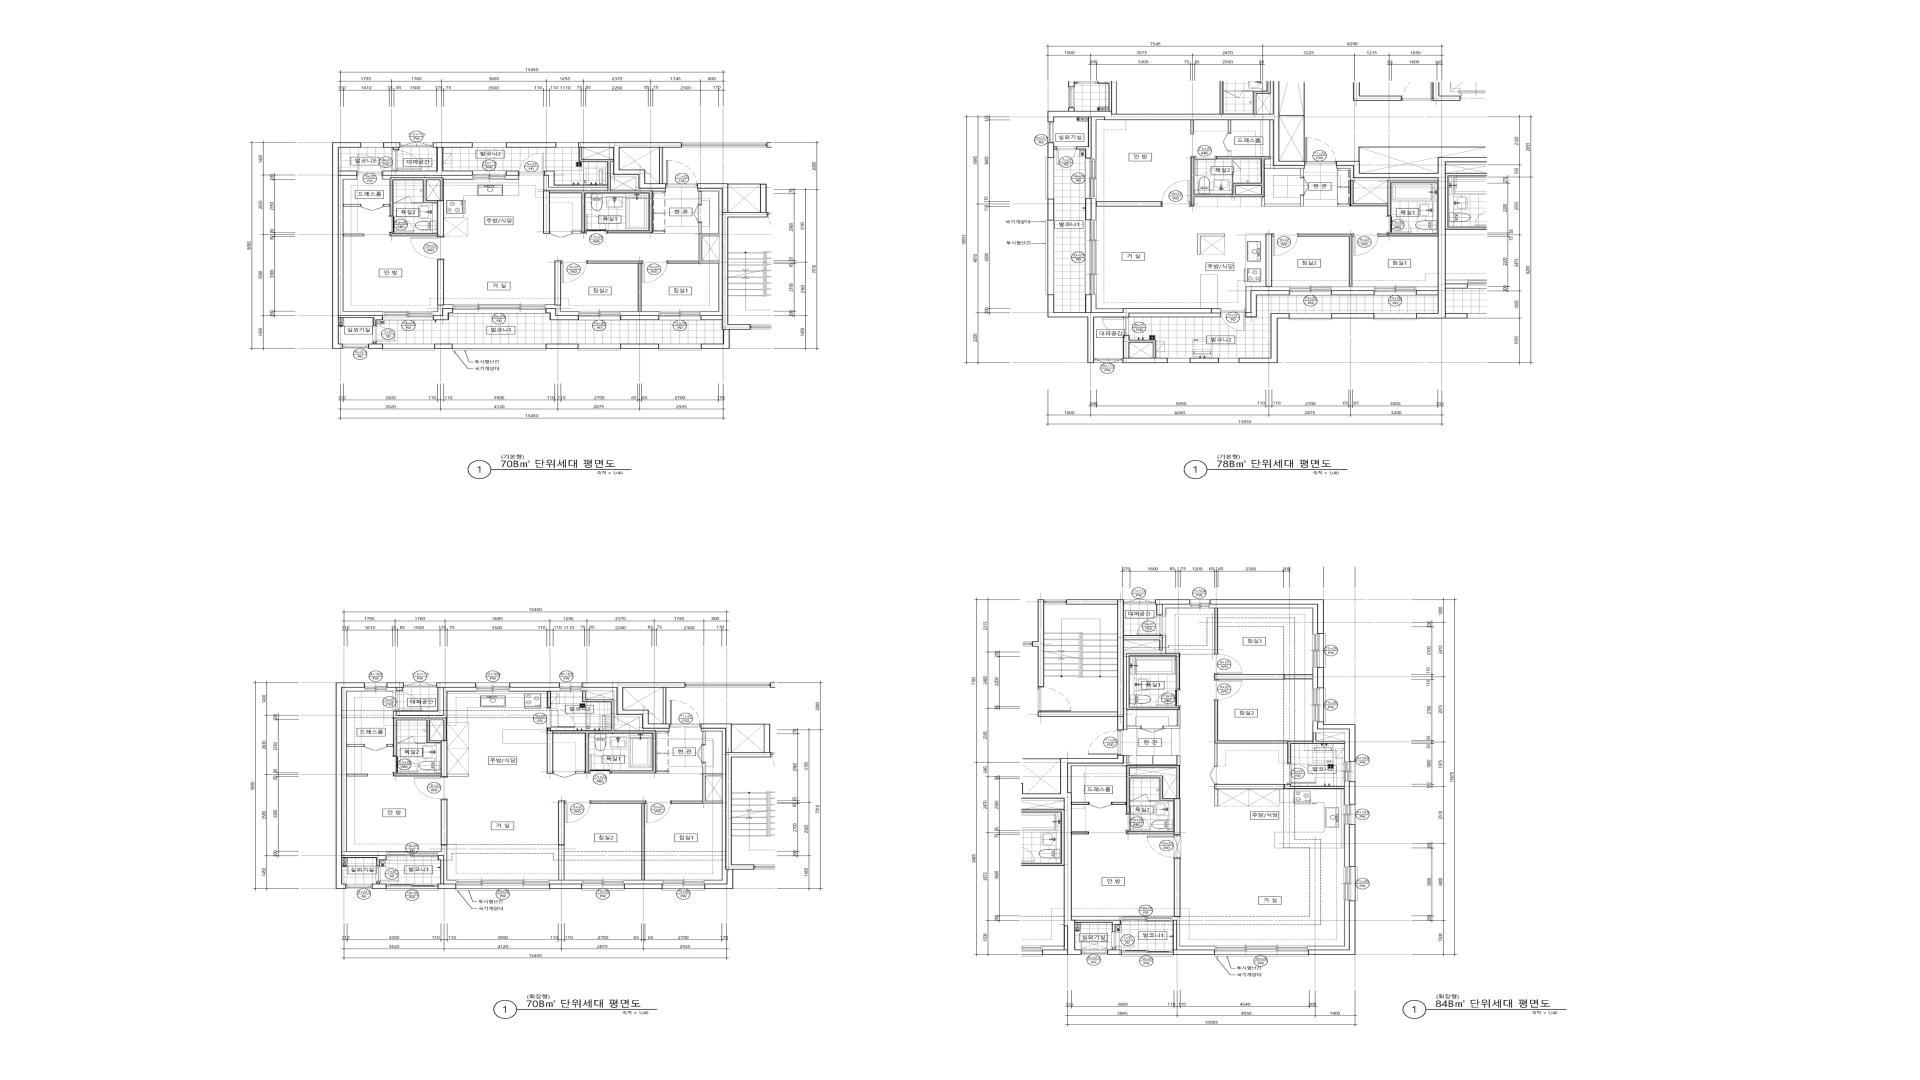door: (666, 160, 698, 187), (669, 700, 700, 727), (1088, 731, 1121, 756), (1038, 687, 1071, 712), (410, 236, 444, 260), (1305, 137, 1336, 164), (1147, 835, 1180, 858), (1162, 181, 1191, 207), (1352, 233, 1379, 256), (393, 150, 422, 171), (1137, 615, 1166, 636), (518, 153, 545, 175), (1273, 233, 1299, 256), (1220, 309, 1246, 331), (645, 800, 671, 823), (564, 800, 591, 823), (1288, 764, 1316, 785), (1215, 679, 1242, 700), (642, 261, 667, 284), (560, 261, 587, 282), (1215, 654, 1242, 674), (393, 691, 421, 711), (547, 708, 575, 728), (357, 154, 382, 175), (1126, 814, 1151, 832), (1102, 318, 1129, 335), (585, 214, 608, 233), (588, 754, 611, 773), (390, 216, 414, 233), (1387, 216, 1411, 233), (1156, 690, 1180, 707), (393, 756, 417, 773), (1195, 157, 1216, 175), (373, 326, 396, 342), (1112, 932, 1134, 948), (377, 866, 398, 882), (553, 771, 576, 778), (360, 204, 384, 211), (1089, 802, 1112, 808), (1141, 727, 1163, 733), (550, 231, 572, 237), (1224, 133, 1232, 152), (1209, 766, 1217, 785), (1130, 794, 1149, 802), (397, 736, 415, 744), (694, 204, 702, 223), (1300, 178, 1308, 195), (698, 745, 705, 762), (393, 196, 411, 203), (364, 745, 386, 750), (1232, 160, 1241, 171)
wall: (1047, 82, 1305, 166), (1336, 157, 1445, 319), (1038, 600, 1163, 731), (1060, 756, 1124, 955), (543, 142, 682, 233), (1047, 294, 1220, 363), (700, 724, 771, 889), (698, 183, 767, 349), (335, 683, 386, 889), (332, 142, 382, 349), (547, 691, 657, 774), (1215, 700, 1345, 764), (342, 687, 386, 856), (339, 175, 382, 315), (582, 683, 686, 729), (1112, 766, 1180, 835), (591, 800, 645, 880), (1124, 636, 1166, 731), (1209, 600, 1324, 634), (1191, 157, 1271, 206), (702, 729, 727, 884), (582, 687, 670, 731), (1211, 604, 1317, 634), (393, 717, 447, 777), (390, 178, 444, 236), (698, 189, 721, 315), (1126, 654, 1180, 709), (382, 142, 472, 175), (1299, 233, 1353, 286), (587, 261, 642, 311), (397, 683, 476, 716), (1308, 901, 1356, 955), (393, 687, 476, 717), (1238, 314, 1290, 363), (1265, 120, 1305, 178), (1068, 756, 1127, 793), (1308, 901, 1349, 949), (611, 162, 666, 191), (1317, 721, 1356, 762), (1312, 721, 1349, 762), (1336, 166, 1437, 181), (1172, 920, 1215, 955), (1172, 916, 1215, 949), (550, 845, 582, 884), (1246, 290, 1290, 318), (1124, 335, 1167, 363), (1246, 286, 1290, 313), (1033, 600, 1044, 687), (543, 175, 608, 191), (1215, 785, 1345, 790), (438, 845, 455, 884), (1197, 233, 1225, 255), (438, 856, 455, 889), (1092, 294, 1122, 313), (1155, 600, 1191, 615), (1215, 674, 1312, 679), (1262, 195, 1304, 207), (1092, 117, 1104, 158), (702, 236, 719, 261), (705, 777, 723, 800), (546, 309, 579, 320), (1174, 858, 1180, 918), (1129, 343, 1153, 359), (1129, 314, 1220, 318), (382, 175, 472, 179), (1266, 233, 1273, 286), (1096, 202, 1162, 207), (546, 305, 579, 315), (1163, 709, 1180, 729), (438, 260, 444, 306), (440, 799, 447, 845), (554, 261, 560, 306), (558, 800, 564, 845), (430, 720, 443, 742), (1163, 604, 1191, 615), (426, 181, 440, 200), (1349, 824, 1356, 866), (506, 142, 556, 148), (433, 309, 452, 320), (1344, 824, 1349, 866), (1332, 290, 1374, 295), (1332, 314, 1374, 319), (620, 315, 659, 320), (433, 305, 452, 315), (624, 884, 662, 889), (509, 687, 559, 691), (509, 683, 559, 687), (621, 344, 658, 349), (1072, 916, 1121, 920), (1215, 608, 1218, 654), (1332, 286, 1374, 290), (550, 884, 582, 889), (546, 344, 578, 349), (620, 311, 659, 315), (1189, 357, 1218, 363), (624, 880, 662, 884), (1349, 782, 1356, 804), (1085, 198, 1092, 220), (1047, 142, 1056, 158), (1317, 667, 1324, 688), (1047, 199, 1054, 220), (384, 142, 401, 150), (386, 683, 404, 691), (671, 800, 703, 804), (1344, 782, 1349, 804), (368, 342, 382, 349), (1312, 667, 1317, 688), (663, 687, 666, 724), (434, 344, 452, 349), (372, 882, 386, 889), (659, 148, 662, 183), (1092, 198, 1096, 220), (1108, 948, 1121, 955), (667, 261, 699, 264), (1416, 286, 1437, 290), (1215, 790, 1218, 807), (547, 691, 551, 708), (1215, 744, 1217, 766), (447, 774, 468, 777), (505, 171, 518, 175), (1228, 120, 1232, 133), (505, 175, 518, 179), (728, 183, 761, 185), (386, 687, 397, 691), (732, 724, 764, 725), (1191, 120, 1193, 135), (653, 231, 665, 233), (1178, 756, 1180, 766), (572, 231, 582, 233), (1228, 152, 1232, 157), (1337, 204, 1350, 206), (386, 744, 393, 746), (384, 204, 390, 207), (657, 771, 669, 773), (1232, 171, 1233, 182), (1149, 800, 1159, 802), (415, 742, 426, 744), (576, 771, 585, 773), (411, 203, 422, 203)
window: (455, 880, 550, 890), (1215, 945, 1308, 956), (452, 305, 546, 314), (1085, 220, 1096, 294), (452, 344, 546, 351), (1046, 220, 1054, 295), (382, 311, 433, 320), (1344, 866, 1357, 901), (582, 880, 624, 890), (662, 880, 704, 890), (1312, 634, 1325, 667), (1312, 688, 1325, 721), (1085, 158, 1096, 198), (1374, 286, 1416, 295), (1290, 286, 1332, 295), (579, 311, 620, 320), (659, 311, 700, 320), (382, 344, 435, 351), (1046, 158, 1054, 199), (658, 344, 702, 351), (578, 344, 621, 351), (1374, 314, 1416, 320), (1290, 314, 1332, 320), (1121, 951, 1174, 956), (386, 885, 438, 890), (386, 852, 438, 857), (1121, 916, 1172, 922), (472, 171, 506, 179), (476, 683, 509, 691), (1344, 762, 1356, 782), (1344, 804, 1356, 824), (400, 141, 433, 148), (472, 142, 506, 148), (364, 683, 386, 691), (559, 683, 582, 691), (404, 682, 436, 687), (1124, 599, 1155, 604), (1191, 600, 1211, 608), (1095, 359, 1124, 364), (343, 344, 368, 349), (1047, 123, 1054, 142), (1167, 357, 1189, 363), (556, 142, 579, 148), (361, 142, 384, 148), (1218, 357, 1238, 363), (345, 885, 372, 889), (1081, 951, 1108, 955), (1044, 600, 1067, 604)
